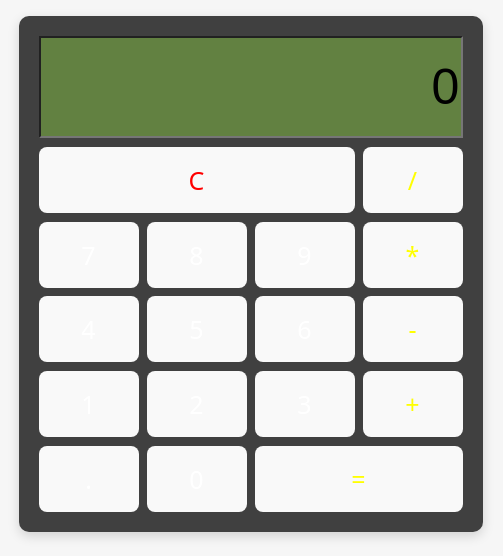
Test: Full keyboard input performs operations (4+5=9)
The image size is (503, 556).
Clear the field at {"x": 251, "y": 87}, box [39,36,463,138]
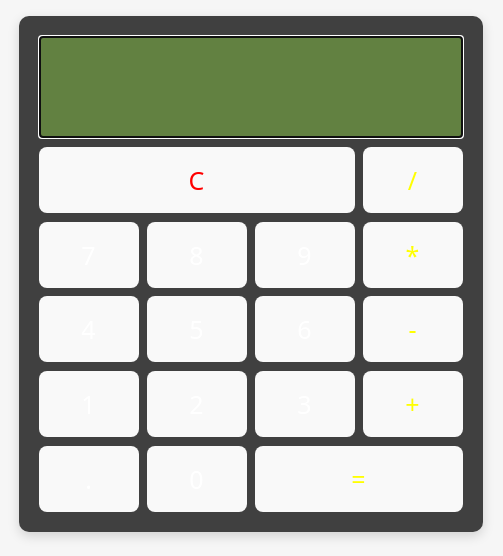
Note: type 4 + 5 Enter
Type keys "4+5{Enter}"
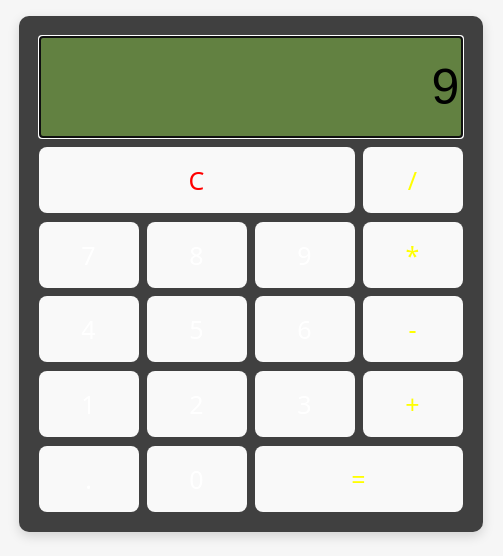
Expected: the field holds "9", [39,36,463,138]
